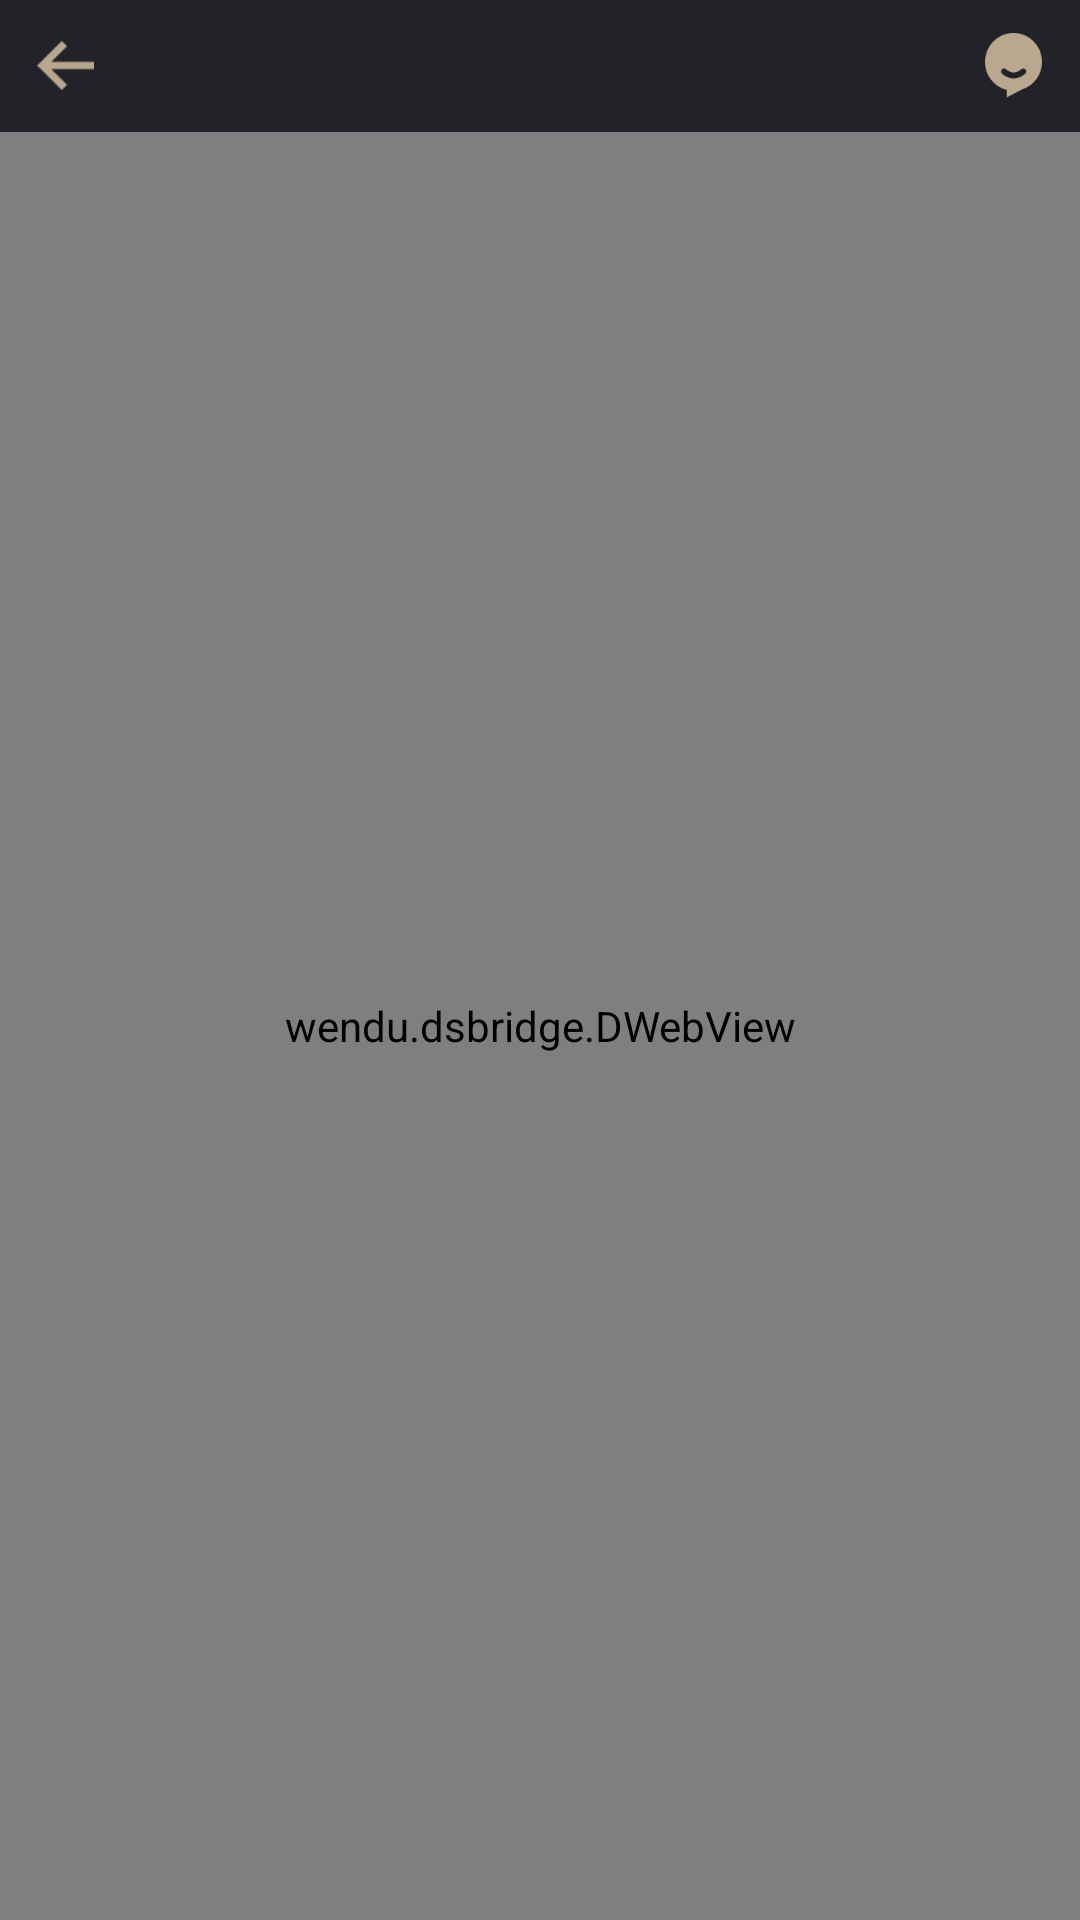

Screen size 1080*1920. Icon name, then its box in pixels as (x1, y1, x2, y2):
back gold: (37, 41, 94, 90)
service: (985, 33, 1042, 98)
